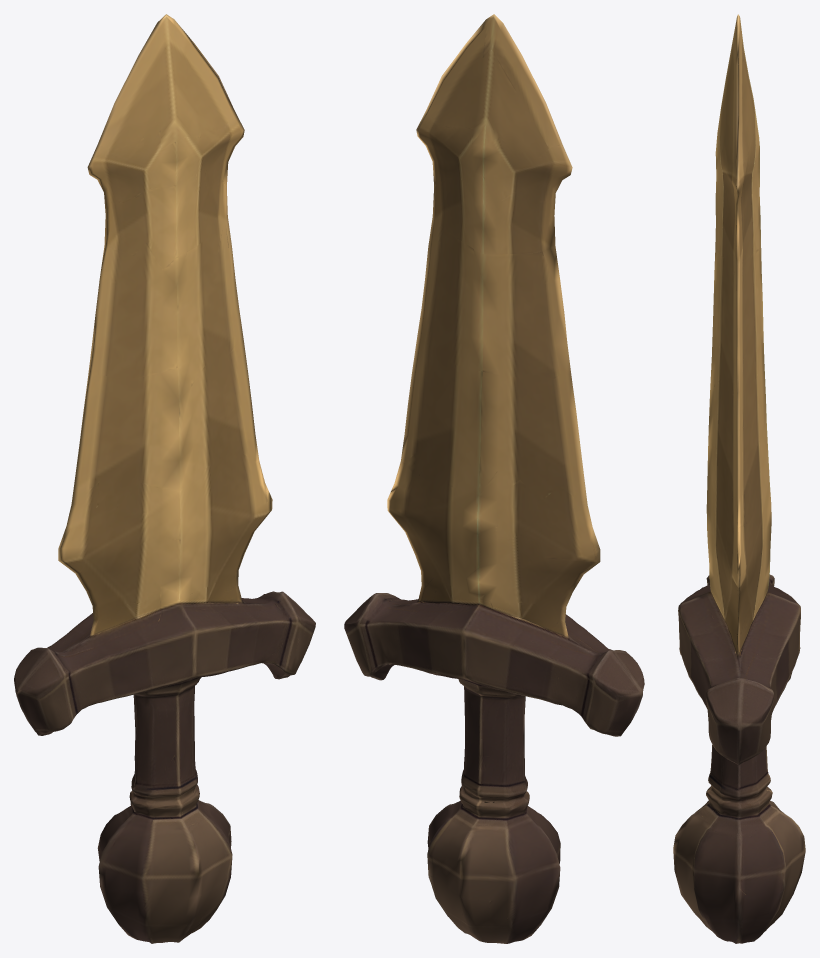
The model's file is 06_青铜短锋.fbx.
The picture shows the model from 3 angles, left to right: view 1: azimuth 30°, elevation 25°; view 2: azimuth 150°, elevation 25°; view 3: azimuth 270°, elevation 25°; orthographic projection.
Visible parts, largest first — view 1: Mesh_0; view 2: Mesh_0; view 3: Mesh_0.
Boxes of the visible parts, box(x1,y1,x2,y2) form: Mesh_0: box(14, 14, 315, 943); Mesh_0: box(344, 14, 644, 943); Mesh_0: box(673, 14, 805, 943).
Bounding box in the file's own units: 67.37 × 200 × 26.14.
1 material, 1 textured.
